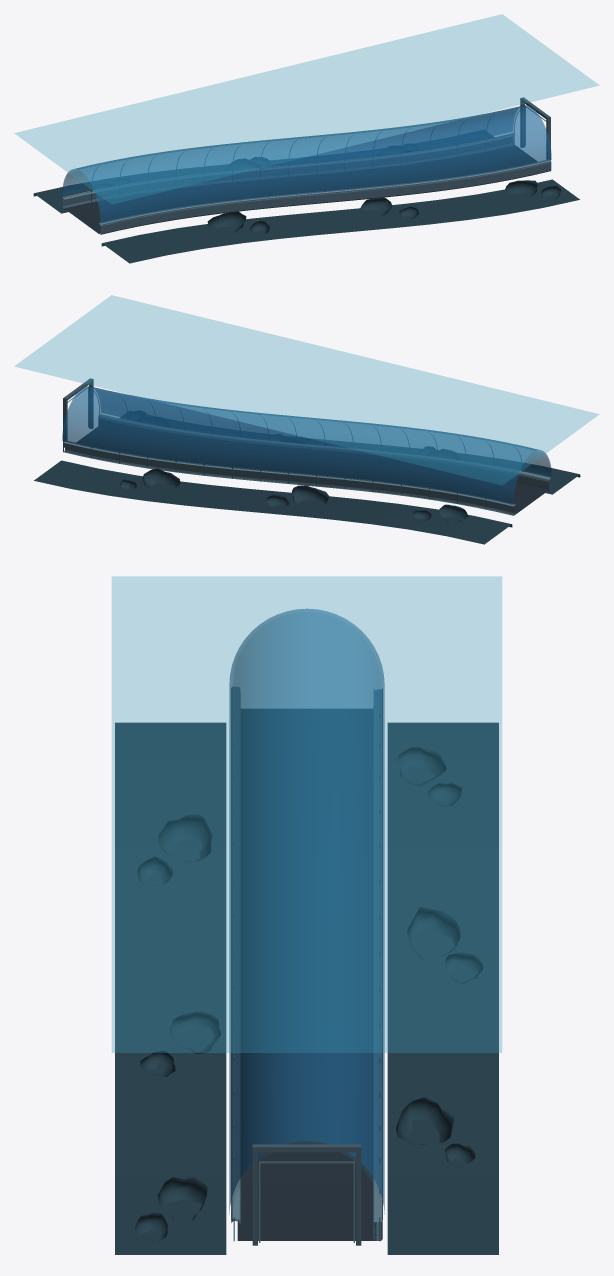
File: aquarium_underwater_arch.glb
3 renders of one model, top to bottom at view 1: azimuth 30°, elevation 25°; view 2: azimuth 150°, elevation 25°; view 3: azimuth 270°, elevation 25°, orthographic. The views are drawn at different scales.
Visible parts, largest first — view 1: ArchWaterSurface, TankWaterArch, ArchRock, ArchRail, ArchFloor, ArchTrim, ArchSeam; view 2: ArchWaterSurface, TankWaterArch, ArchRock, ArchRail, ArchFloor, ArchTrim, ArchSeam; view 3: ArchWaterSurface, ArchRock, TankWaterArch, ArchFloor, ArchTrim, ArchRail.
Boxes of the visible parts, <box> form: ArchWaterSurface: <box>14,14,599,204</box>; TankWaterArch: <box>62,105,551,223</box>; ArchRock: <box>33,136,579,263</box>; ArchRail: <box>62,97,551,234</box>; ArchFloor: <box>64,145,537,233</box>; ArchTrim: <box>62,106,551,225</box>; ArchSeam: <box>91,111,550,211</box>; ArchWaterSurface: <box>14,295,599,485</box>; TankWaterArch: <box>62,386,551,504</box>; ArchRock: <box>34,417,580,544</box>; ArchRail: <box>63,378,550,515</box>; ArchFloor: <box>64,426,549,514</box>; ArchTrim: <box>63,387,550,506</box>; ArchSeam: <box>63,392,522,509</box>; ArchWaterSurface: <box>112,576,501,1052</box>; ArchRock: <box>115,722,498,1254</box>; TankWaterArch: <box>229,609,384,1214</box>; ArchFloor: <box>237,709,376,1240</box>; ArchTrim: <box>231,687,382,1242</box>; ArchRail: <box>231,1144,382,1245</box>.
Bounding box in the file's own units: 52 × 11.56 × 18.
